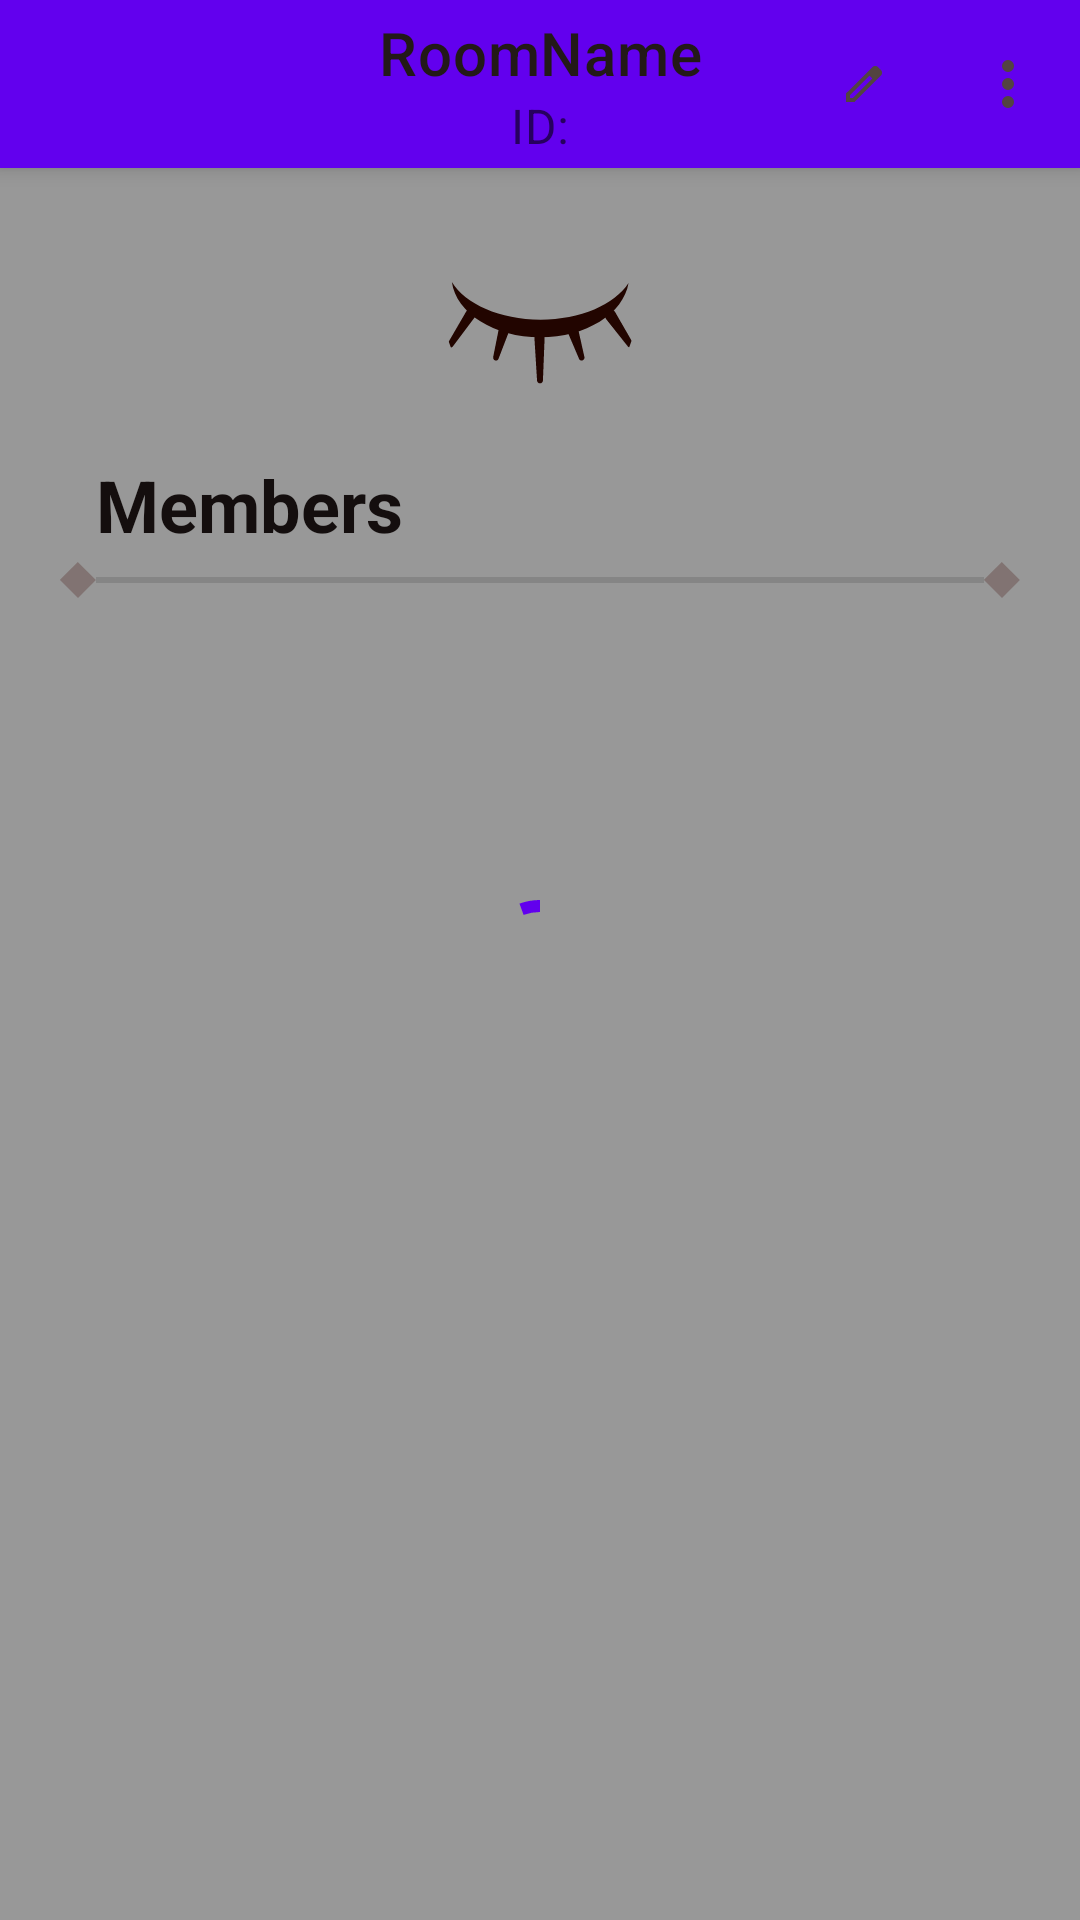

Where icons sit on this 1080 × 1920 app screen, as [x1, y1, x2, y2]:
closed eye: [449, 282, 632, 384]
diamond: [60, 562, 95, 597], [984, 562, 1019, 597]
